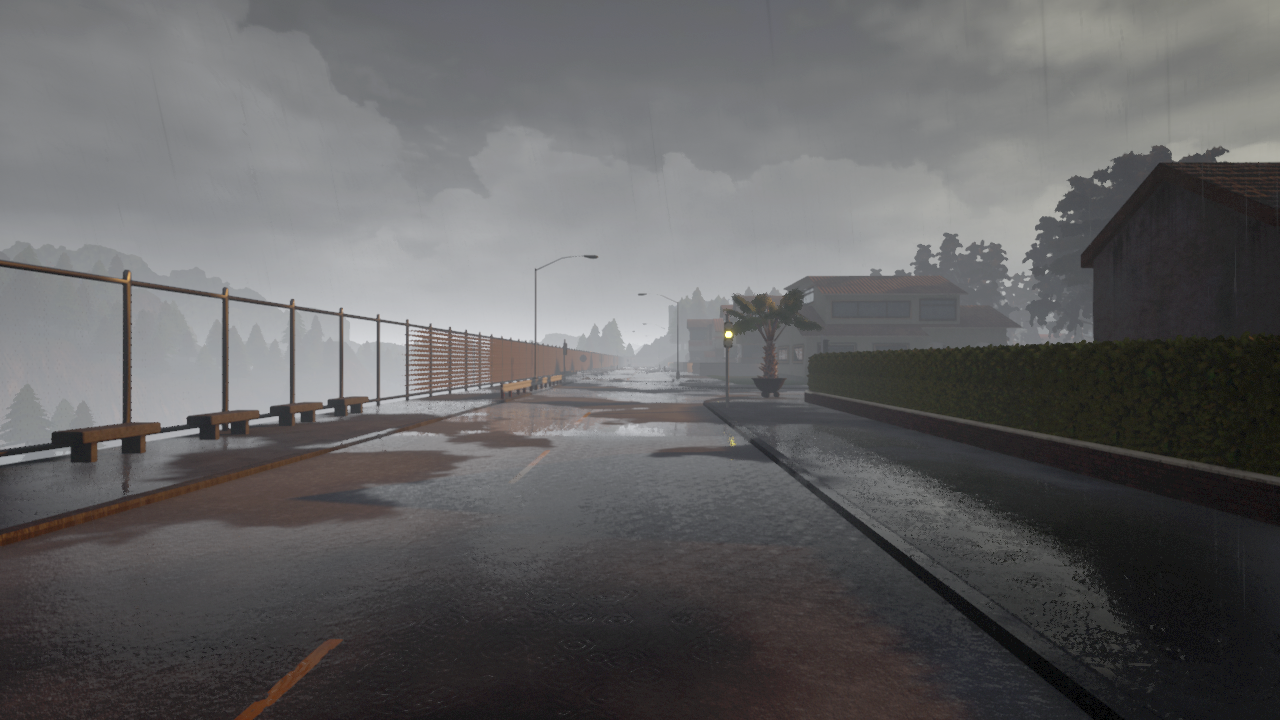yellow: (722, 319, 735, 348)
